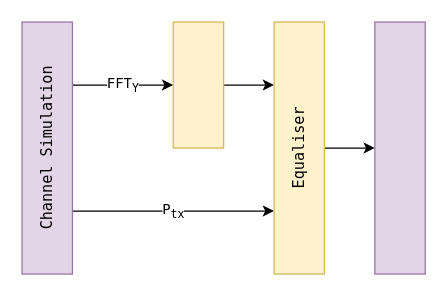
Image size: 447x296. Some labels were removed from this diagram. The shapes that lost their labels are listed below. From the top down, each one's centre as x and y in pixels, then its label:
(198,84): Denoiser
(399,147): Estimation
